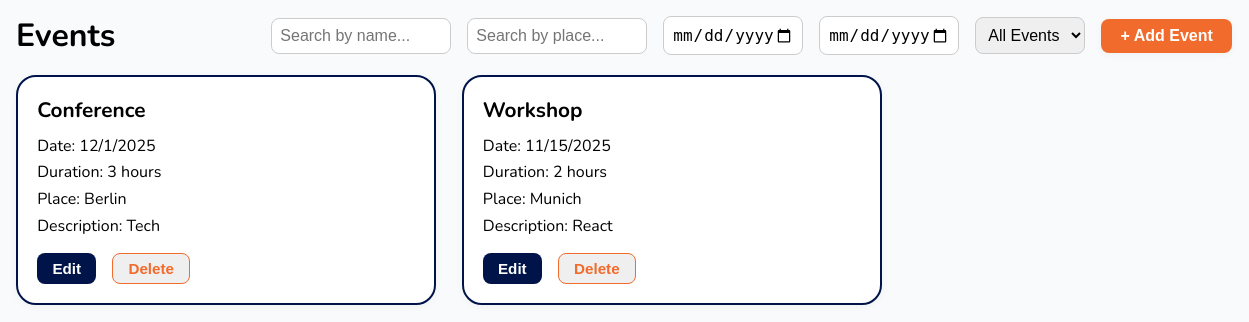
Test: EventsHome Component - Unit Tests › Delete Event Functionality › should delete event successfully
Expected: the heading "Conference" is shown, 37,96 -> 146,124
Expected: the heading "Workshop" is shown, 483,96 -> 582,124
Click delete on first event
Click the button "Delete" below "Tech" at point(151, 269), box 112,253 -> 190,284
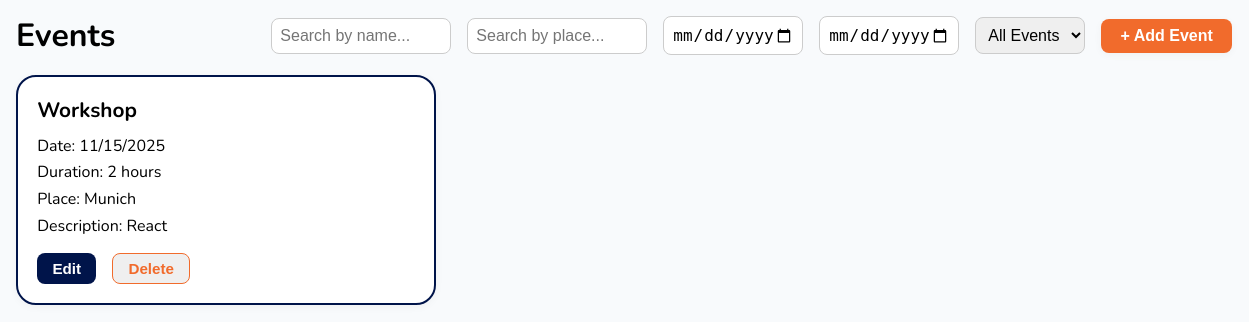
Expected: the heading "Workshop" is shown, 37,96 -> 137,124
Result: the heading "Conference" is gone
